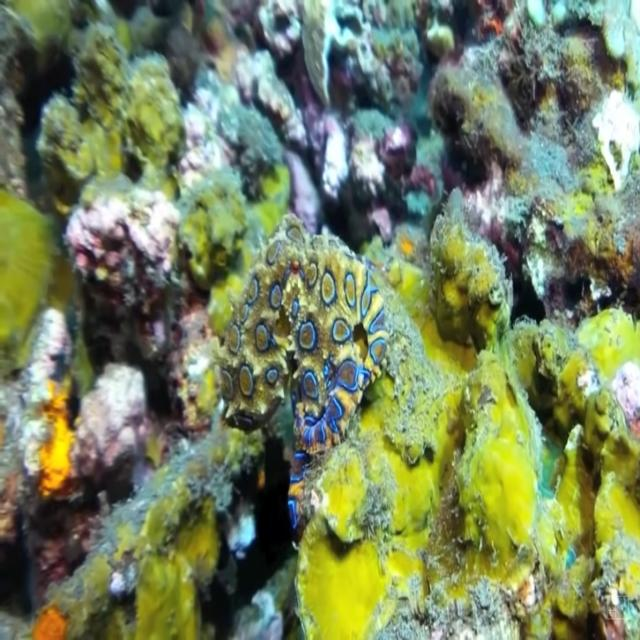blue_ringed_octopus: (218, 212, 390, 528)
